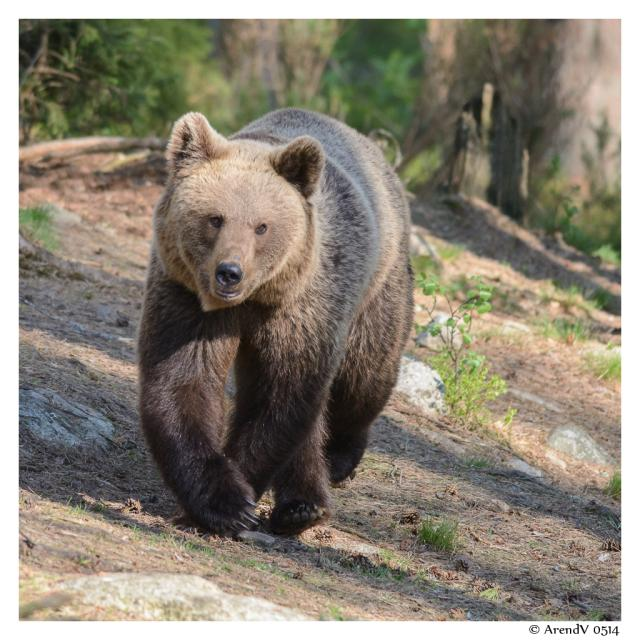Cheetahs: (135, 106, 414, 531)
